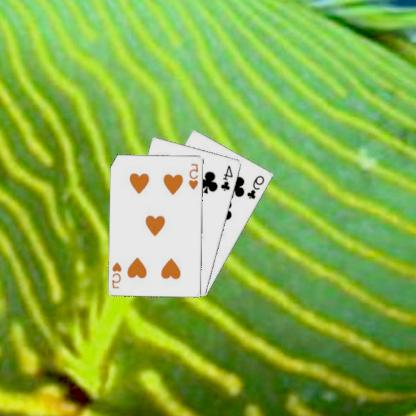4C: (220, 162, 236, 192)
5H: (111, 259, 125, 290), (188, 160, 202, 190)
9C: (246, 172, 268, 200)
